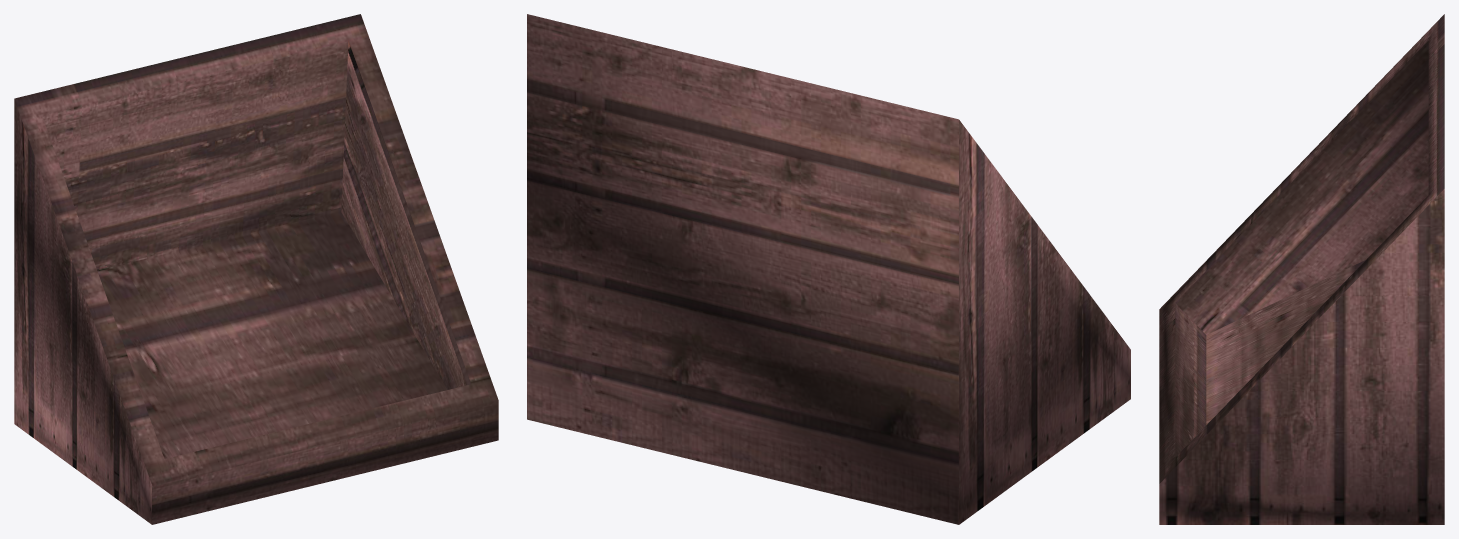
Rendered from Prateleira1.fbx.
The picture shows the model from 3 angles, left to right: view 1: azimuth 30°, elevation 25°; view 2: azimuth 150°, elevation 25°; view 3: azimuth 270°, elevation 25°; orthographic projection. The views are drawn at different scales.
Parts seen in each view (by area): view 1: Prateleira1; view 2: Prateleira1; view 3: Prateleira1.
Part boxes in pixels (x1,y1,x2,y2): Prateleira1: [14, 14, 498, 524]; Prateleira1: [527, 14, 1130, 524]; Prateleira1: [1159, 14, 1444, 524].
Bounding box in the file's own units: 191 × 132 × 172.
